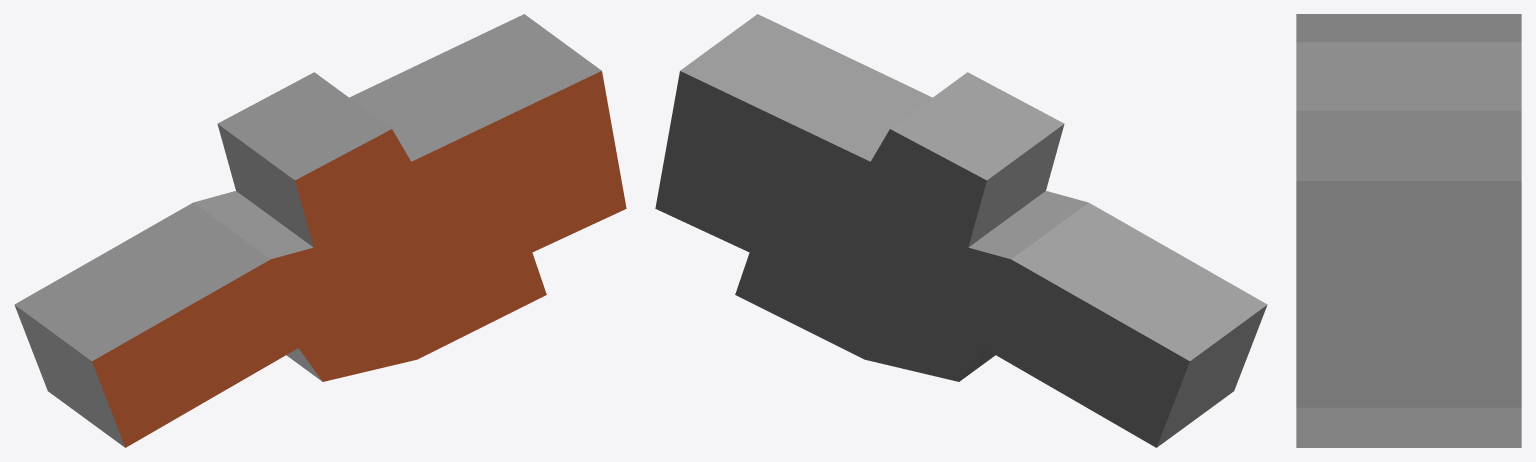
The model's file is construction_4976_assumed_A_Casa_h6m.obj.
3 renders of one model, left to right at view 1: azimuth 30°, elevation 25°; view 2: azimuth 150°, elevation 25°; view 3: azimuth 270°, elevation 25°, orthographic. The views are drawn at different scales.
Visible parts, largest first — view 1: construction_4976_assumed_A_Casa; view 2: construction_4976_assumed_A_Casa; view 3: construction_4976_assumed_A_Casa.
Boxes of the visible parts, x1,y1,x2,y2 form: construction_4976_assumed_A_Casa: (14,14,626,447); construction_4976_assumed_A_Casa: (655,14,1267,447); construction_4976_assumed_A_Casa: (1296,14,1521,447).
Bounding box in the file's own units: 23.86 × 11.12 × 6.
